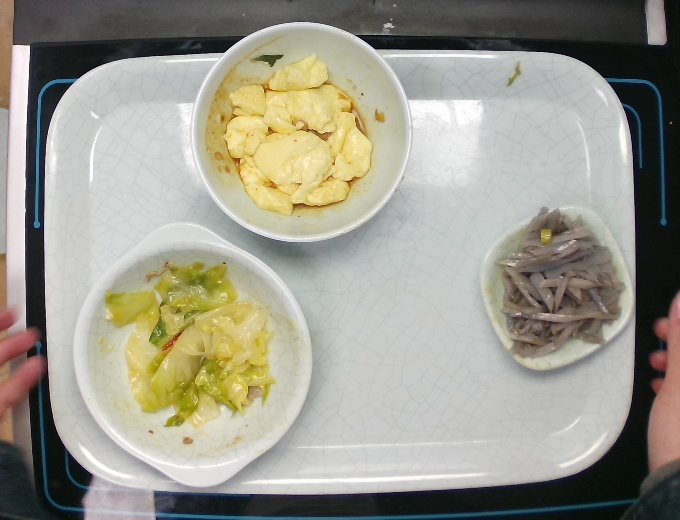JYsf-Fan_Wan: (182, 15, 416, 247)
JYsf-Shuang_Er_Wan: (68, 215, 322, 498)
JYsf-Si_Fang_Die: (463, 193, 632, 379)
